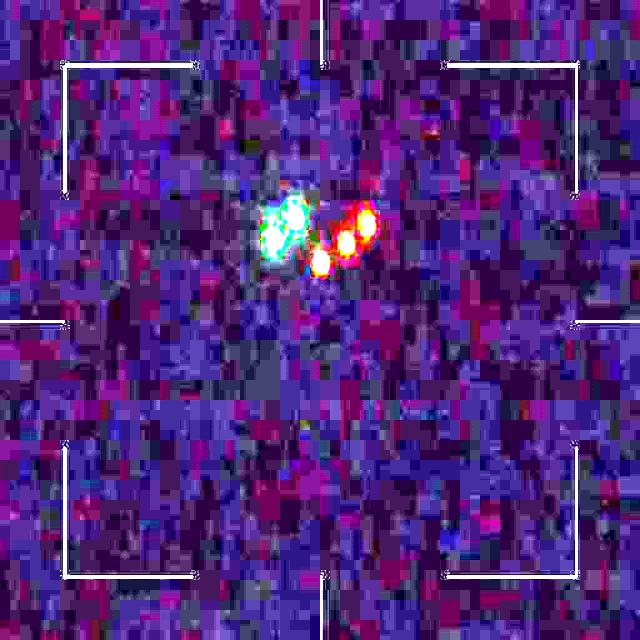bird: (266, 201, 379, 274)
